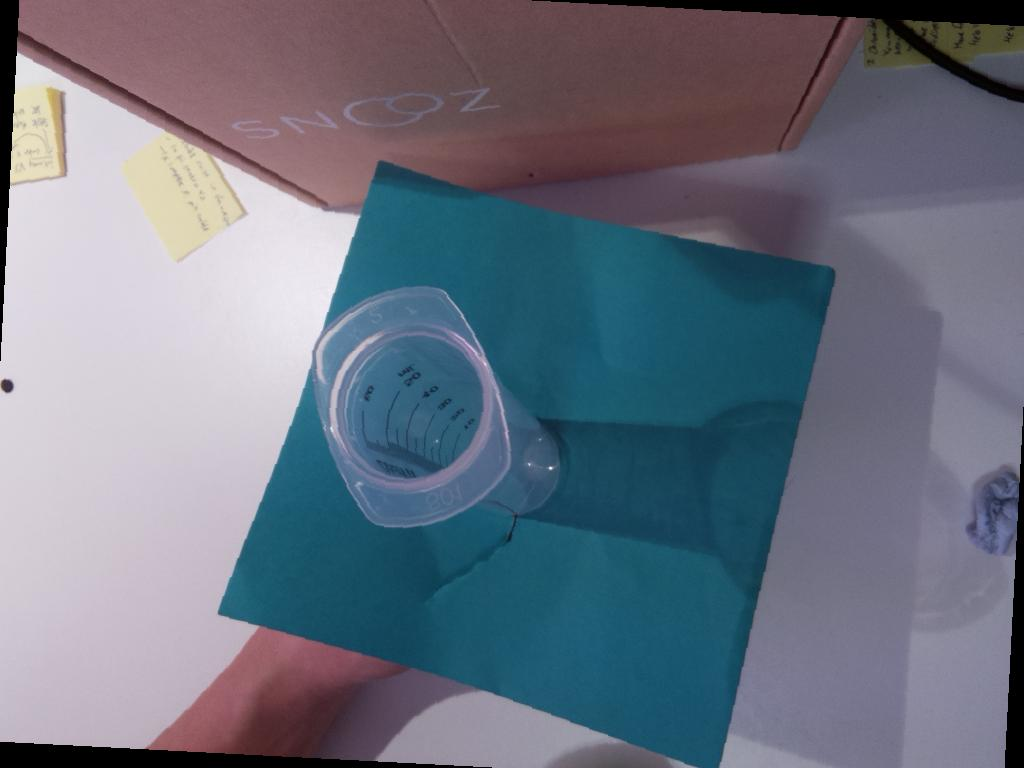clean: (312, 281, 514, 528)
